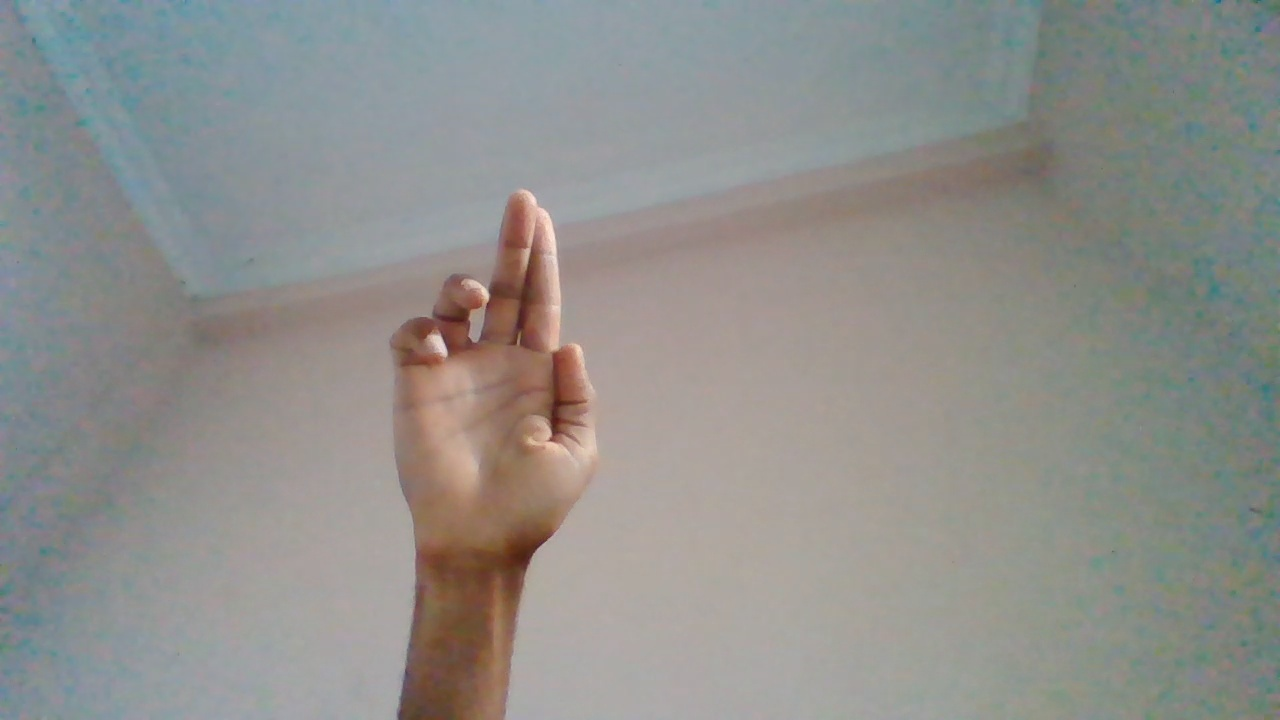gne: (387, 197, 603, 665)
